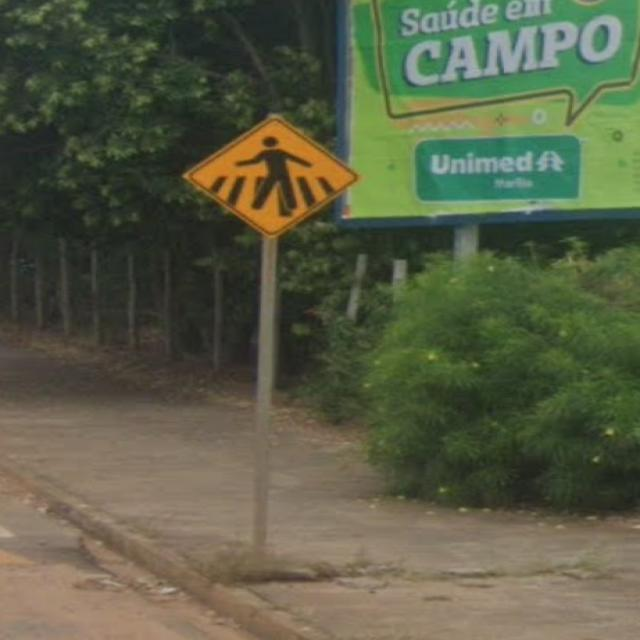pedestrian crossing: (178, 103, 366, 252)
